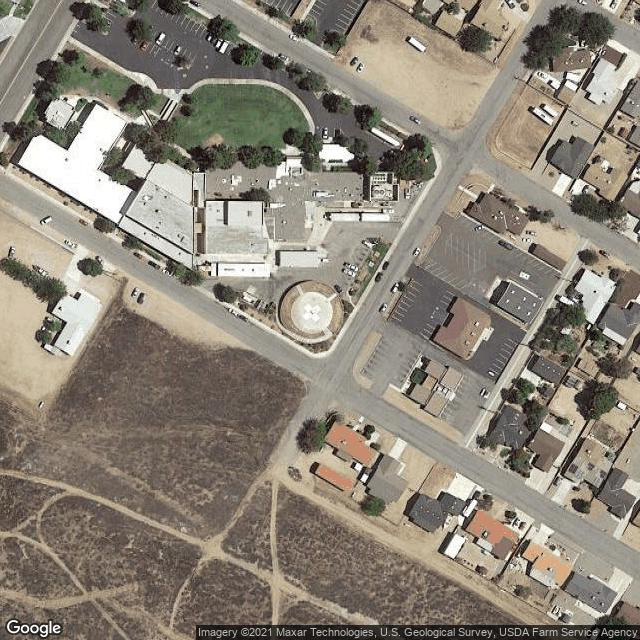Helipad: (298, 297, 329, 328)
